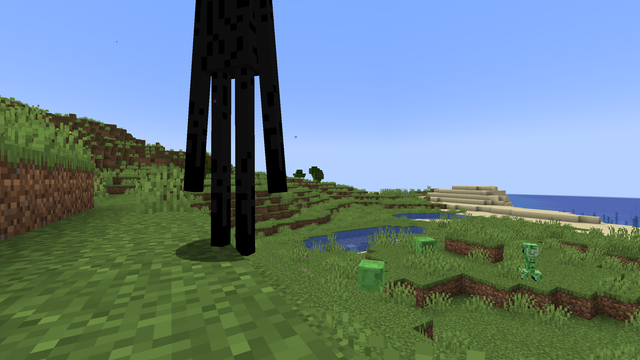creepers: (519, 240, 540, 281)
endermens: (195, 0, 274, 258)
slimes: (354, 257, 388, 293), (411, 235, 436, 257)
